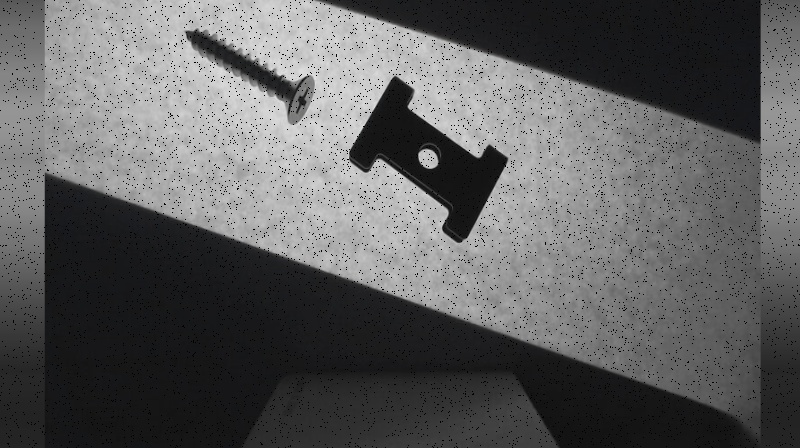O002: (346, 75, 508, 241)
S001: (183, 24, 315, 127)
